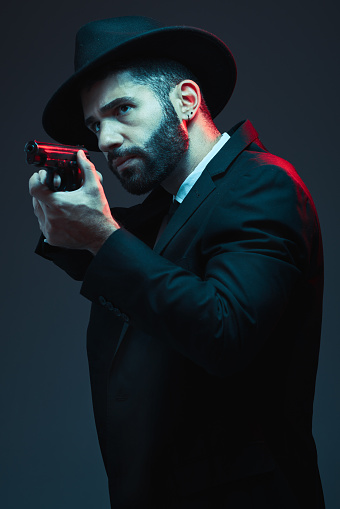gun: (20, 135, 93, 197)
